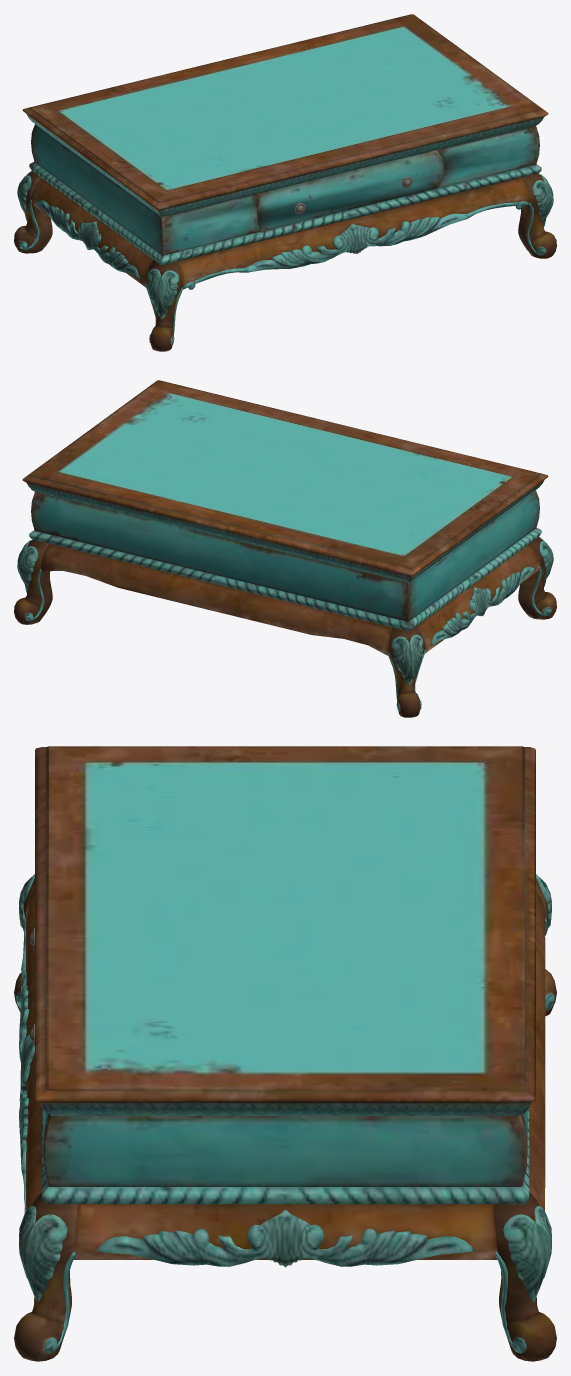
Rendered from CoffeeTable_01.glb.
3 views of the same model, one above another, from view 1: azimuth 30°, elevation 25°; view 2: azimuth 150°, elevation 25°; view 3: azimuth 270°, elevation 25° (orthographic). The views are drawn at different scales.
Visible parts, largest first — view 1: CoffeeTable_01; view 2: CoffeeTable_01; view 3: CoffeeTable_01.
Boxes of the visible parts, bbox=[...] form: CoffeeTable_01: bbox=[14, 14, 556, 351]; CoffeeTable_01: bbox=[14, 380, 556, 717]; CoffeeTable_01: bbox=[14, 746, 556, 1361].
Bounding box in the file's own units: 1.54 × 0.5232 × 0.9736.
1 material, 1 textured.
